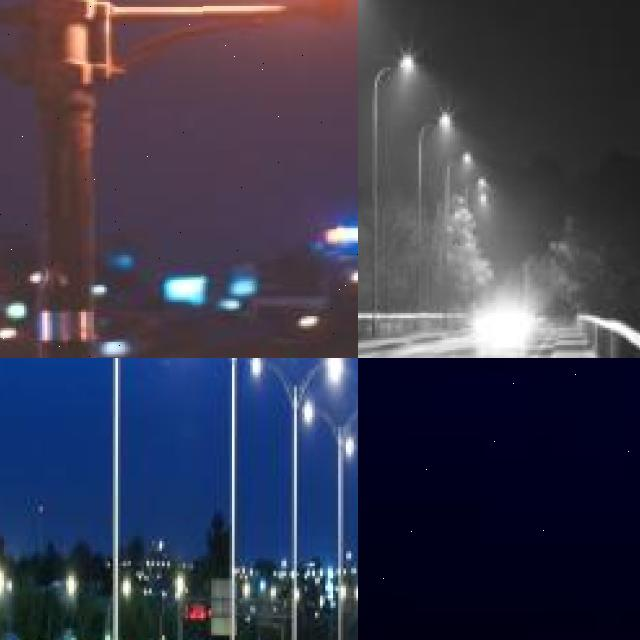street light: (0, 0, 358, 358), (358, 358, 640, 640), (43, 358, 201, 640), (177, 358, 289, 640), (252, 358, 342, 640), (302, 397, 358, 640), (369, 55, 415, 333), (416, 112, 453, 333), (447, 152, 473, 325), (463, 176, 485, 323)
